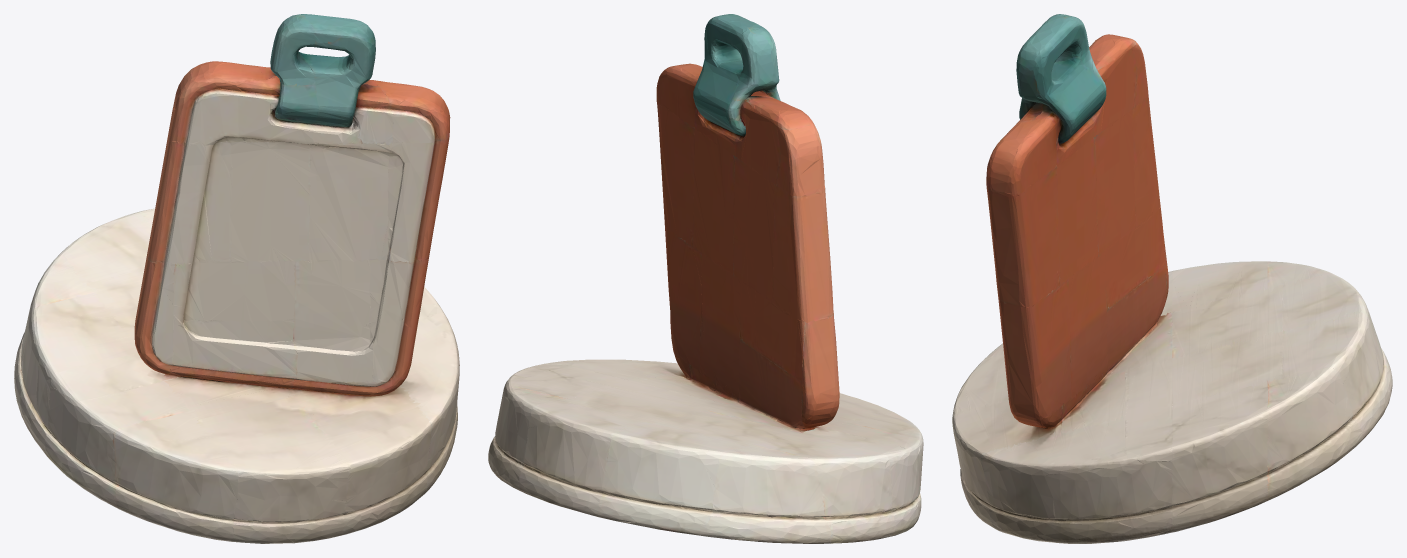
File: id-card-studio.glb
3 renders of one model, left to right at view 1: azimuth 30°, elevation 25°; view 2: azimuth 150°, elevation 25°; view 3: azimuth 270°, elevation 25°, orthographic. The views are drawn at different scales.
Visible parts, largest first — view 1: tmpqw1gfq5o.obj; view 2: tmpqw1gfq5o.obj; view 3: tmpqw1gfq5o.obj.
Part boxes in pixels (bbox=[...]): tmpqw1gfq5o.obj: bbox=[14, 14, 459, 543]; tmpqw1gfq5o.obj: bbox=[488, 14, 923, 543]; tmpqw1gfq5o.obj: bbox=[952, 14, 1392, 543].
Size of the model in its own units: 1.29 by 1.54 by 1.29.
1 material, 1 textured.
